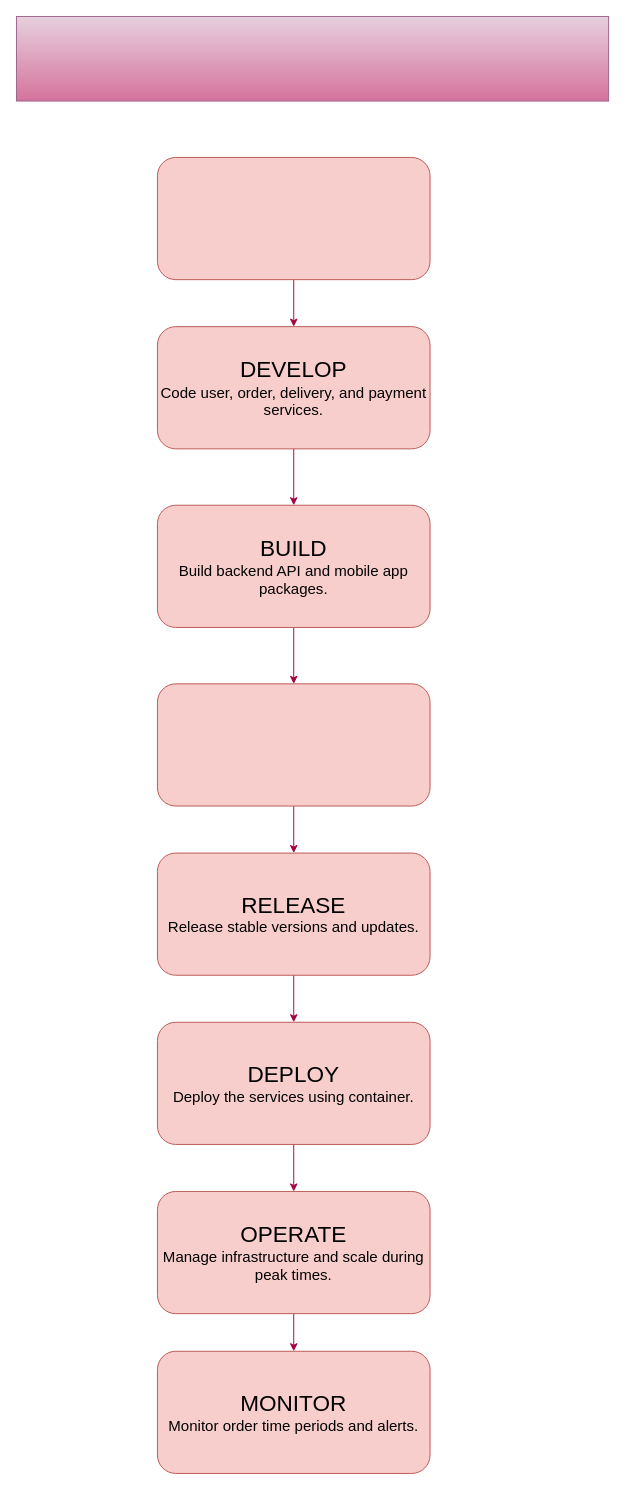
The diagram is 625 pixels wide and 1490 high, and some of its shapes have lost their labels. Here are the shapes that lost their labels. From the top down, the centre of each, then its label:
At pixel 312 58: "FOOD DELIVERY APP".
At pixel 293 218: "PLAN Features like live tracking, offers, and payment options.".
At pixel 293 744: "TEST Test order flow, payment and delivery proccess.".
